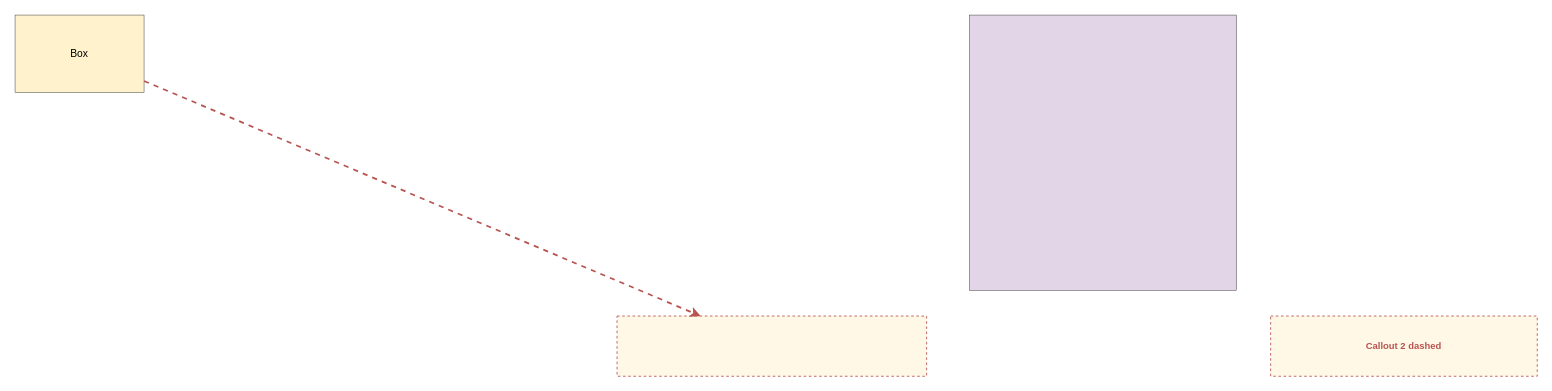
Image size: 1552x391. Some labels were removed from this diagram. The centre of each missing label's shape, as x and y in pixels:
"Callout 1 dashed" goes at (771,345).
"verticalAlign top" goes at (1102,152).
